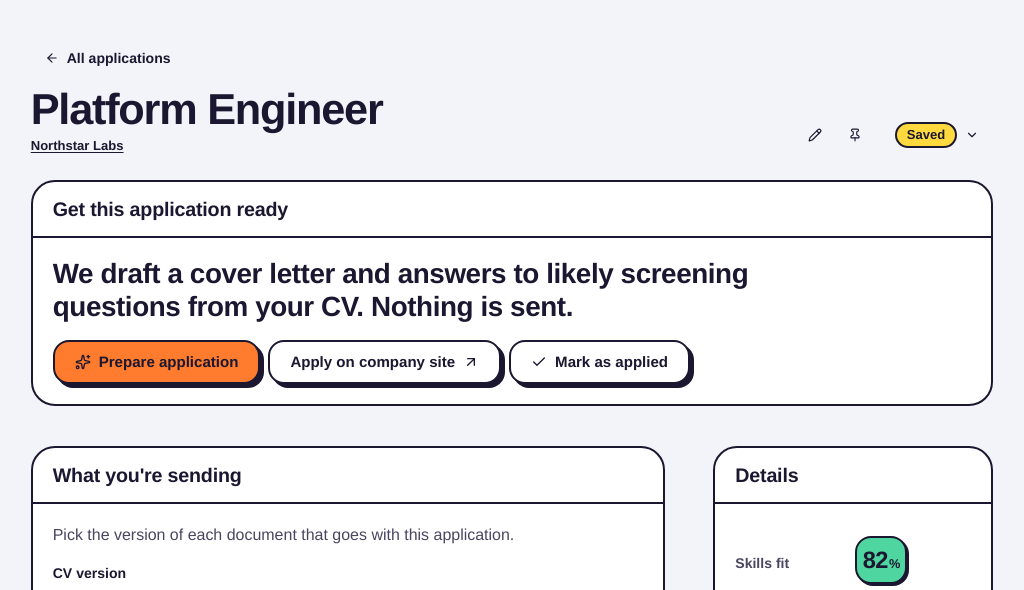
Test: ApplicationPage › walks the apply flow: prepare, answer, apply on the company site, mark applied
The image size is (1024, 590).
Expected: the heading "Get this application ready" is shown, [53,198,288,220]
Click the button "Prepare application" at [157, 362], box [53,340,260,384]
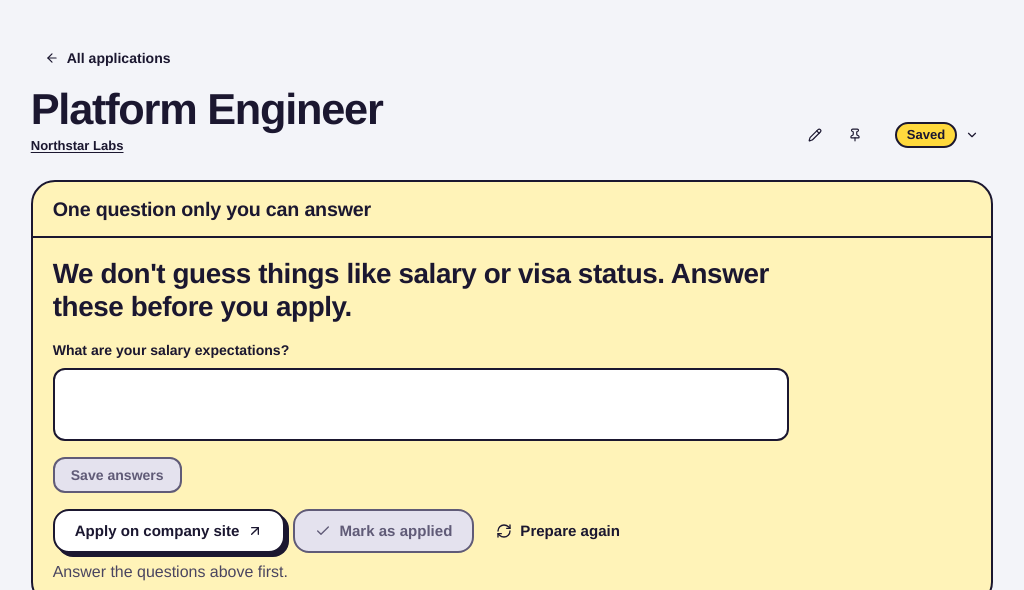
Expected: the heading "One question only you can answer" is shown, [53,198,371,220]
Result: the button "Mark as applied" is disabled at [293,509,474,553]
Type " €90k " into the text box labelled "What are your salary expectations?" at [421, 405], box [53,368,789,441]
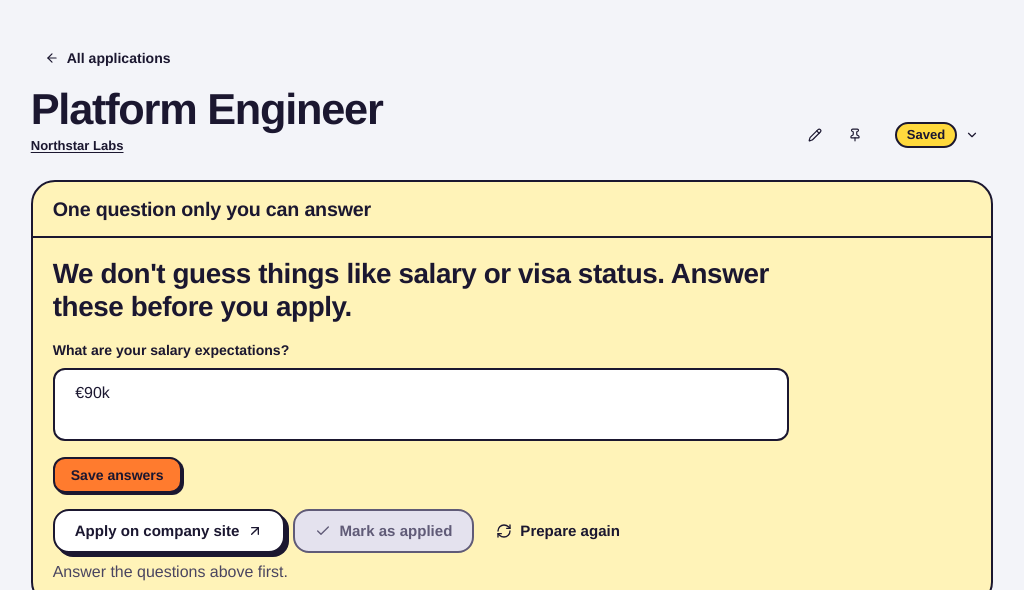
Click the button "Save answers" at [117, 475], box [53,457,182,493]
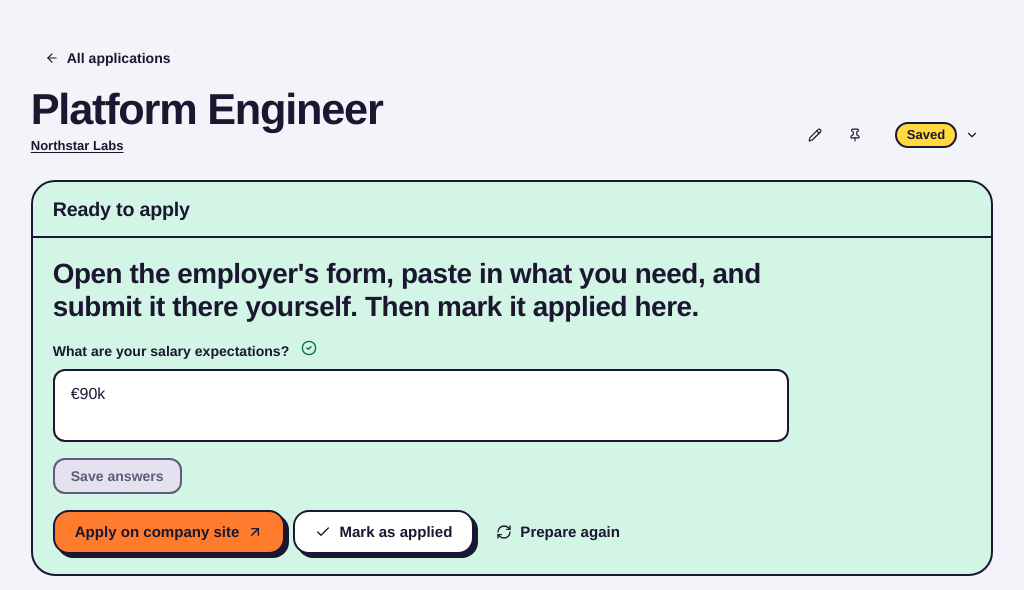
Result: the heading "Ready to apply" is shown at [53,198,190,220]
Click the button "Mark as applied" at [384, 532], box [293,510,474,554]
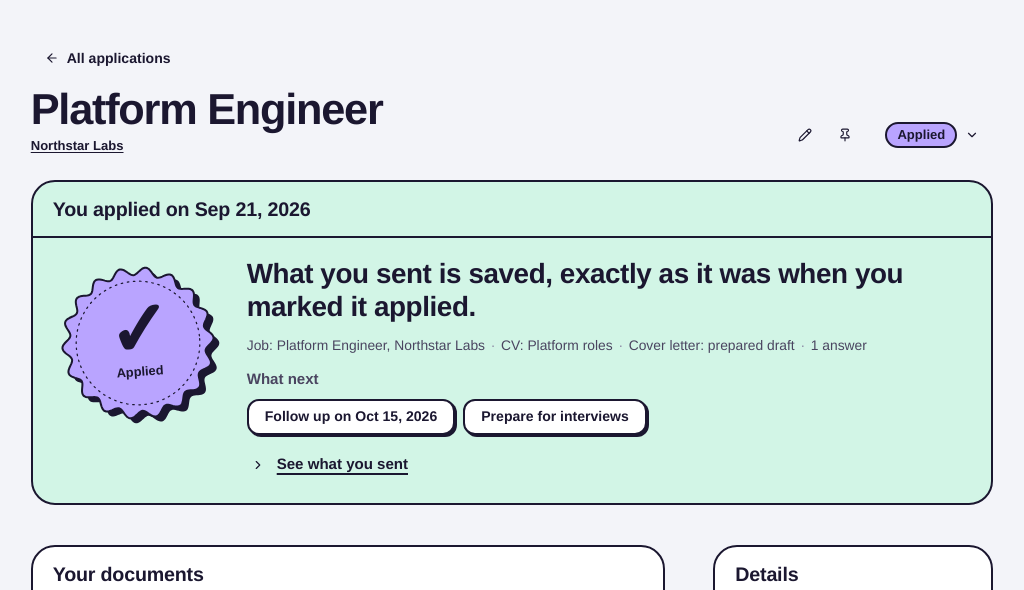
Result: the heading "You applied on Sep 21, 2026" is shown at [53,198,310,220]
Result: the text "See what you sent" is shown at [277,455,408,474]
Result: the button "Mark as applied" is gone
